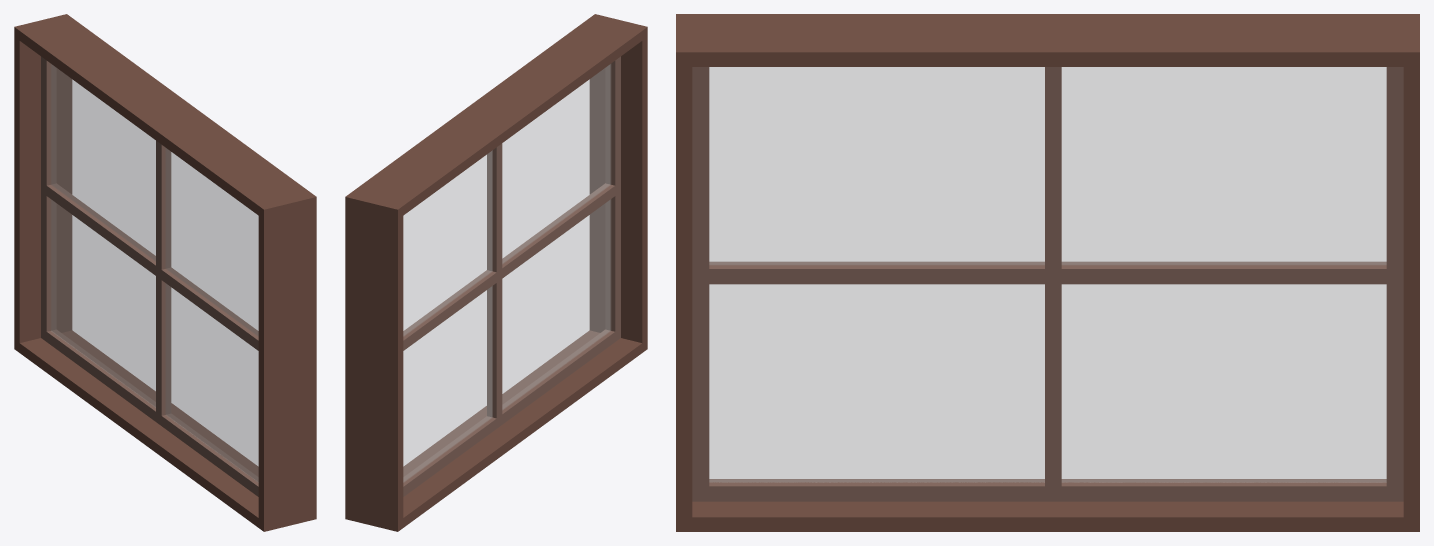
The model's file is Window05.fbx.
The picture shows the model from 3 angles, left to right: view 1: azimuth 30°, elevation 25°; view 2: azimuth 150°, elevation 25°; view 3: azimuth 270°, elevation 25°; orthographic projection. The views are drawn at different scales.
Parts seen in each view (by area): view 1: Wall05Window02; view 2: Wall05Window02; view 3: Wall05Window02.
Boxes of the visible parts, x1,y1,x2,y2 form: Wall05Window02: (14, 14, 316, 531); Wall05Window02: (345, 14, 647, 531); Wall05Window02: (676, 14, 1419, 531).
Size of the model in its own units: 0.2672 by 2.19 by 1.56.
